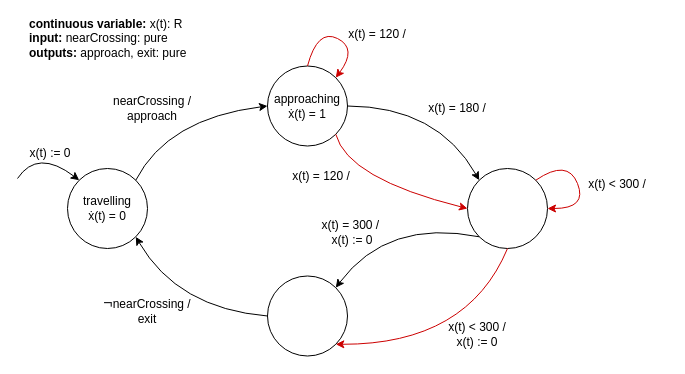
The diagram is 685 pixels wide and 374 high, and some of its shapes have lost their labels. The shapes that lost their labels are listed below. From the top down, each one's centre as x and y in pixels, then its label:
the point at 507,208: passing_gate ẋ(t) = 1
the point at 307,315: exiting ẋ(t) = 0
